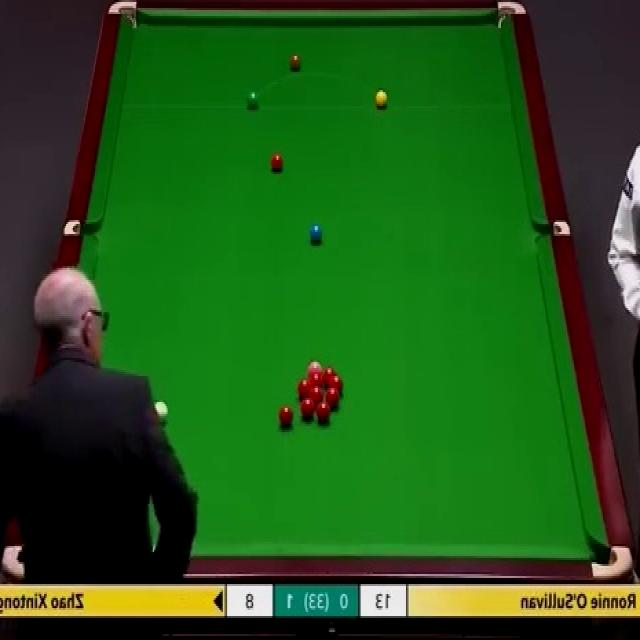blue-ball: (309, 222, 323, 246)
brown-ball: (288, 53, 302, 73)
green-ball: (247, 89, 260, 110)
pink-ball: (308, 360, 321, 377)
red-ball: (308, 384, 323, 406), (270, 151, 284, 174), (279, 404, 293, 426), (317, 402, 330, 425), (301, 398, 315, 419), (329, 374, 342, 394), (327, 387, 339, 408), (296, 379, 309, 398), (323, 367, 335, 387), (310, 375, 323, 386)
white-ball: (156, 401, 169, 422)
yellow-ball: (376, 90, 388, 108)
